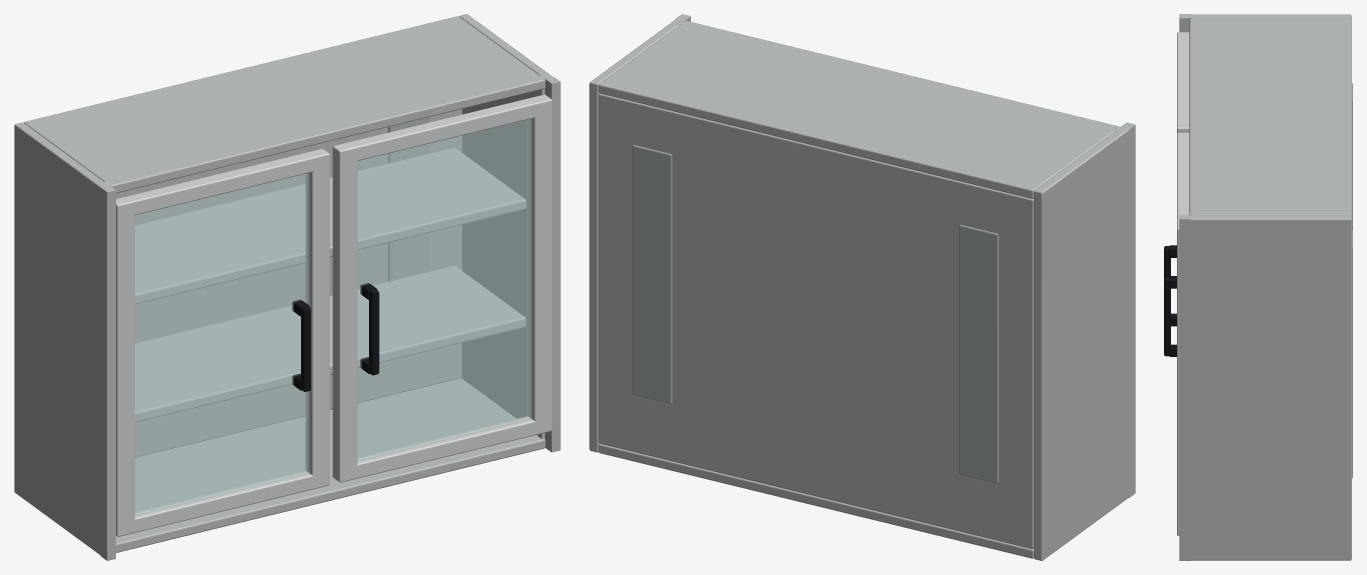
Rendered from wall-cabinet.glb.
3 views of the same model, side by side, from view 1: azimuth 30°, elevation 25°; view 2: azimuth 150°, elevation 25°; view 3: azimuth 270°, elevation 25° (orthographic). The views are drawn at different scales.
Visible parts, largest first — view 1: Runtime batch - Room 809 light gray powder coat, Runtime batch - __moving__Access - wall cabinet right door, Runtime batch - __moving__Access - wall cabinet left door, Runtime batch - Brushed stainless steel, Runtime batch - Zinc plated hardware; view 2: Runtime batch - Room 809 light gray powder coat, Runtime batch - Zinc plated hardware; view 3: Runtime batch - Room 809 light gray powder coat, Runtime batch - __moving__Access - wall cabinet right door, Runtime batch - __moving__Access - wall cabinet left door, Runtime batch - Zinc plated hardware.
Part boxes in pixels (x1,y1,x2,y2): Runtime batch - Room 809 light gray powder coat: (14,14,560,560); Runtime batch - __moving__Access - wall cabinet right door: (332,94,552,482); Runtime batch - __moving__Access - wall cabinet left door: (116,149,329,536); Runtime batch - Brushed stainless steel: (135,147,526,422); Runtime batch - Zinc plated hardware: (388,117,428,281); Runtime batch - Room 809 light gray powder coat: (589,14,1135,560); Runtime batch - Zinc plated hardware: (632,145,998,483); Runtime batch - Room 809 light gray powder coat: (1179,14,1351,560); Runtime batch - __moving__Access - wall cabinet right door: (1164,132,1189,535); Runtime batch - __moving__Access - wall cabinet left door: (1164,32,1189,326); Runtime batch - Zinc plated hardware: (1352,83,1352,478).
Size of the model in its own units: 0.9 by 0.7 by 0.35.
